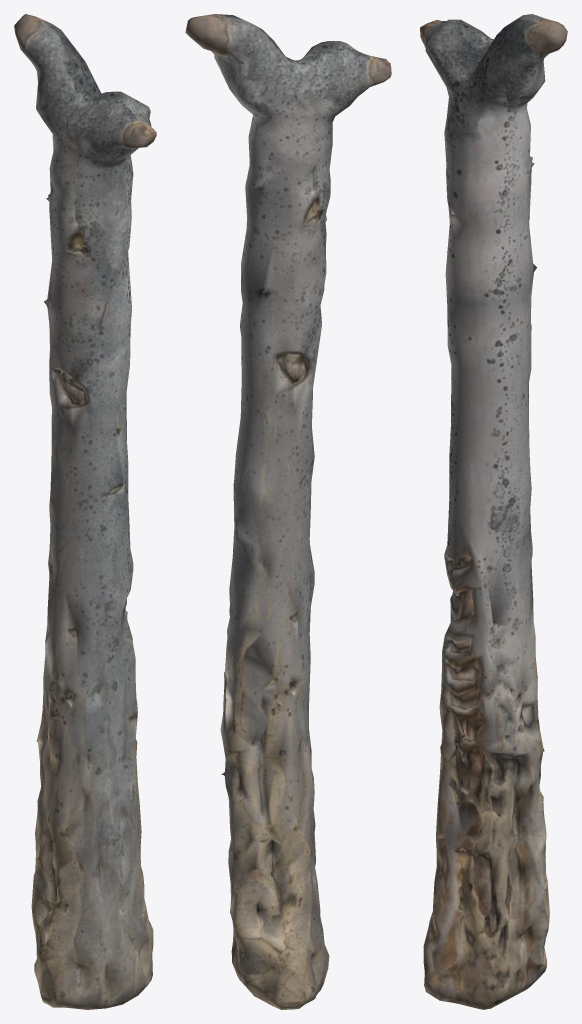
File: dead_quiver_trunk.glb
3 views of the same model, side by side, from view 1: azimuth 90°, elevation 25°; view 2: azimuth 150°, elevation 25°; view 3: azimuth 270°, elevation 25° (orthographic). The views are drawn at different scales.
Parts seen in each view (by area): view 1: dead_quiver_trunk_LOD0; view 2: dead_quiver_trunk_LOD0; view 3: dead_quiver_trunk_LOD0.
Part boxes in pixels (<box>): dead_quiver_trunk_LOD0: <box>14,14,156,1009</box>; dead_quiver_trunk_LOD0: <box>185,14,391,1009</box>; dead_quiver_trunk_LOD0: <box>420,14,567,1009</box>.
Size of the model in its own units: 0.3053 by 1.99 by 0.268.
1 material, 1 textured.
